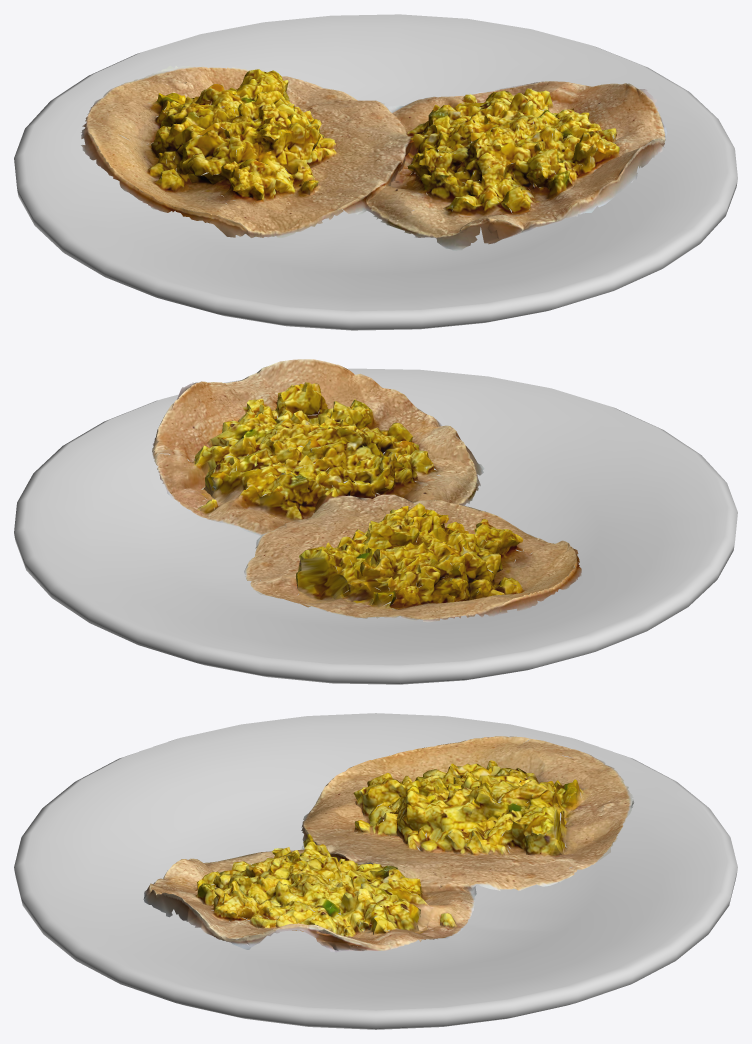
Rendered from TofuTaco.glb.
3 renders of one model, top to bottom at view 1: azimuth 30°, elevation 25°; view 2: azimuth 150°, elevation 25°; view 3: azimuth 270°, elevation 25°, orthographic.
Parts seen in each view (by area): view 1: Plate:PIV, TacosDeTofu; view 2: Plate:PIV, TacosDeTofu; view 3: Plate:PIV, TacosDeTofu.
Boxes of the visible parts, box(x1,y1,x2,y2) form: Plate:PIV: box(14, 14, 737, 330); TacosDeTofu: box(80, 65, 667, 250); Plate:PIV: box(14, 368, 737, 684); TacosDeTofu: box(152, 359, 581, 622); Plate:PIV: box(14, 713, 737, 1029); TacosDeTofu: box(143, 736, 633, 952).
Size of the model in its own units: 1.12 by 0.159 by 1.12.
Materials: 2 (1 with a texture image).
